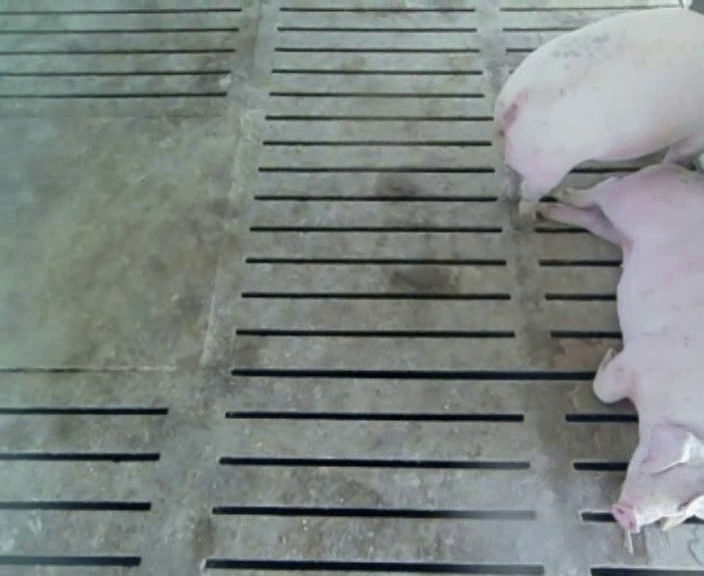pig: (543, 164, 703, 532), (495, 8, 703, 210)
